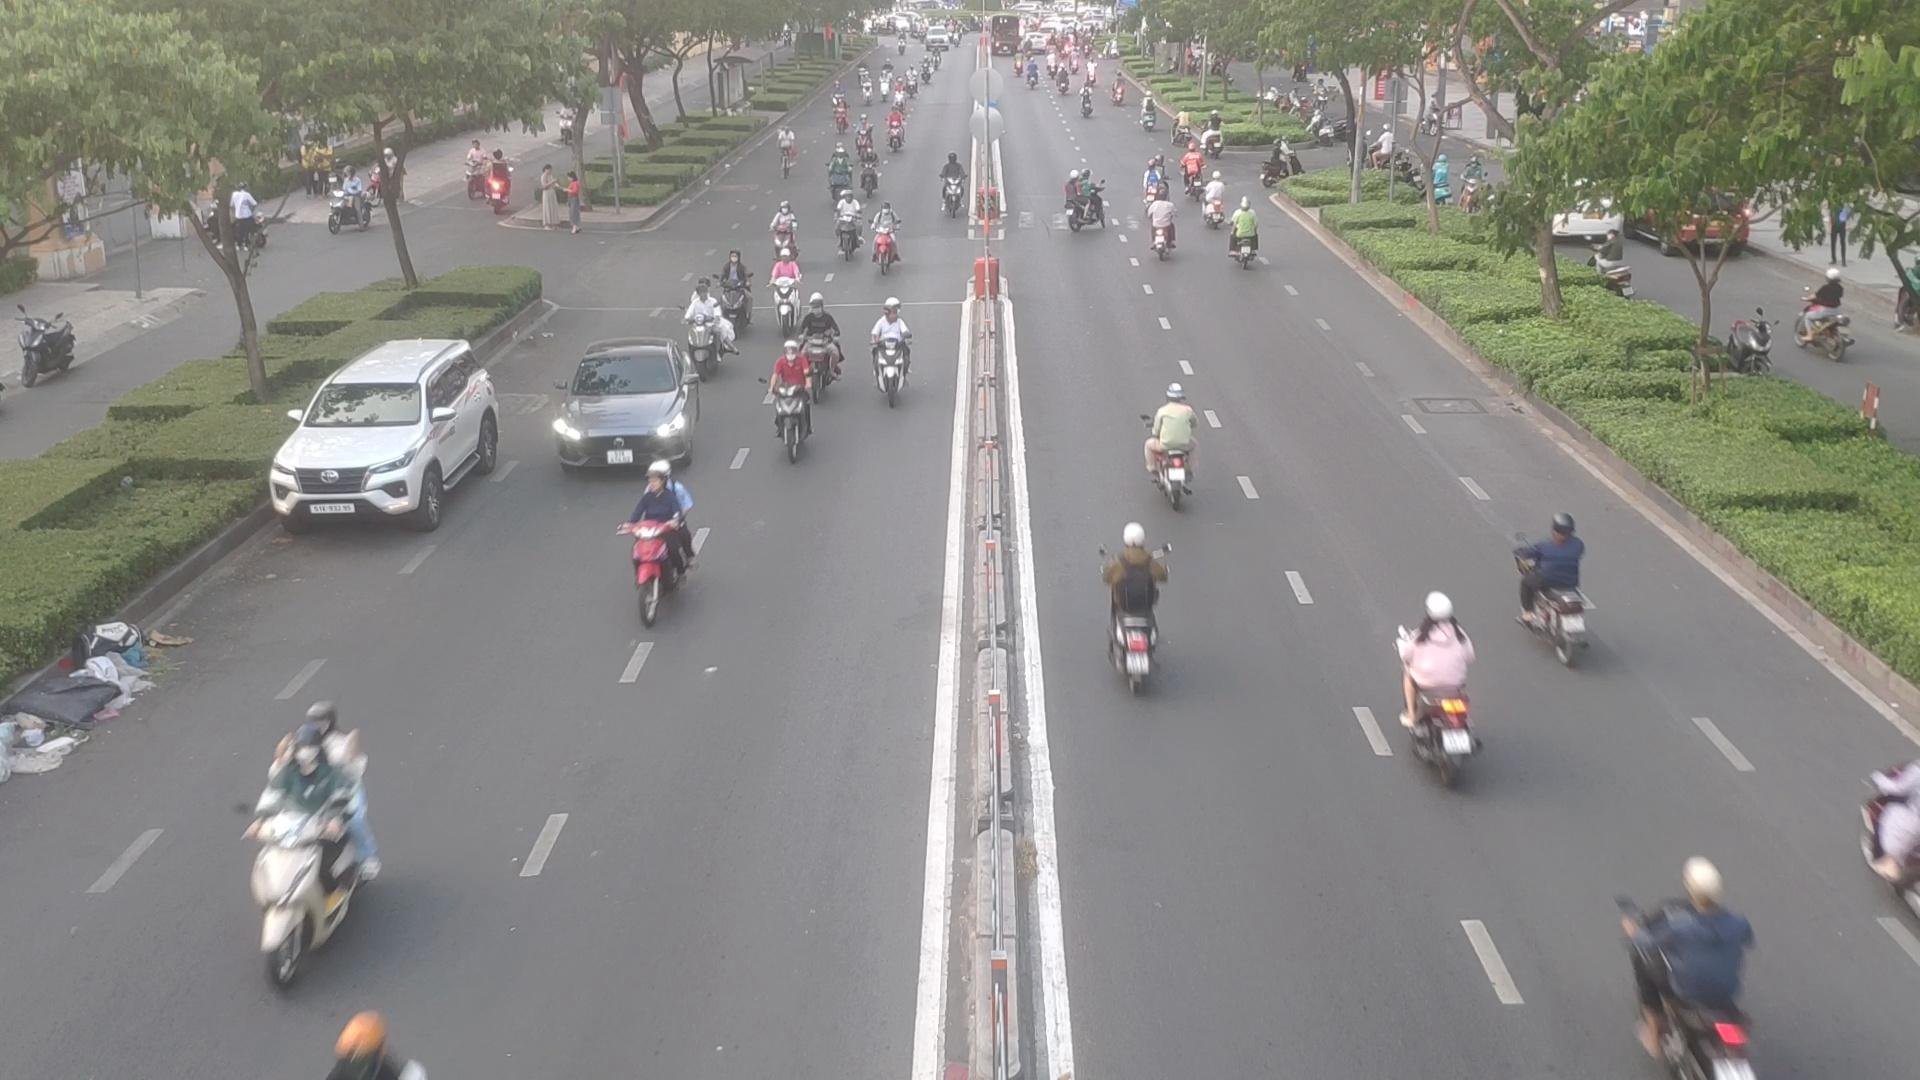car: (273, 339, 516, 530), (550, 340, 702, 469)
motorbike: (232, 703, 384, 975), (1626, 864, 1760, 1077), (1394, 589, 1491, 774), (611, 469, 705, 620), (1095, 527, 1175, 688), (1513, 516, 1592, 661), (1865, 752, 1920, 924), (1139, 396, 1209, 506), (769, 363, 829, 468), (864, 311, 916, 405), (686, 291, 741, 376), (802, 290, 837, 407), (1055, 167, 1109, 233), (709, 255, 757, 324), (1228, 204, 1270, 269), (765, 258, 804, 323), (1149, 193, 1178, 262), (869, 219, 905, 273), (939, 157, 971, 216), (765, 199, 795, 258), (833, 208, 866, 262), (1142, 158, 1174, 208), (1179, 150, 1212, 198), (855, 146, 884, 196), (1203, 174, 1226, 231), (880, 112, 909, 153), (828, 146, 848, 202), (856, 113, 880, 156)
